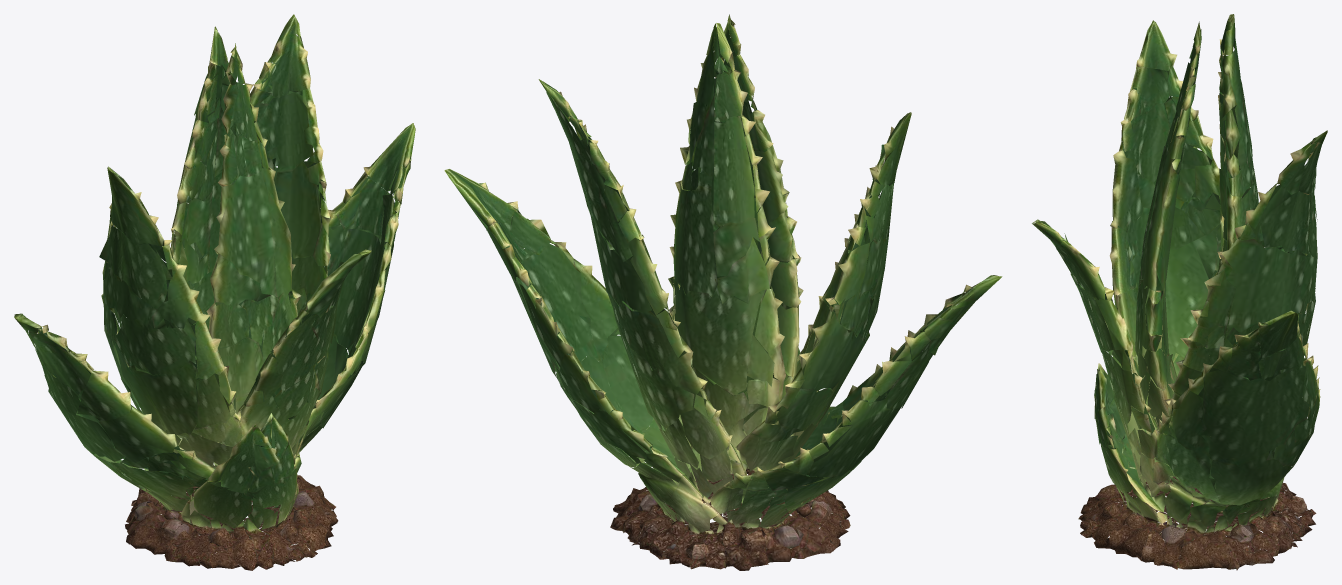
Rendered from plant_aloe.glb.
3 renders of one model, left to right at view 1: azimuth 30°, elevation 25°; view 2: azimuth 150°, elevation 25°; view 3: azimuth 270°, elevation 25°, orthographic. The views are drawn at different scales.
Parts seen in each view (by area): view 1: Mesh_0; view 2: Mesh_0; view 3: Mesh_0.
Part boxes in pixels (box(x1,y1,x2,y2)): Mesh_0: box(14, 14, 415, 570); Mesh_0: box(444, 14, 1002, 570); Mesh_0: box(1032, 14, 1327, 570).
Size of the model in its own units: 2 by 2 by 1.05.
Materials: 1 (1 with a texture image).
